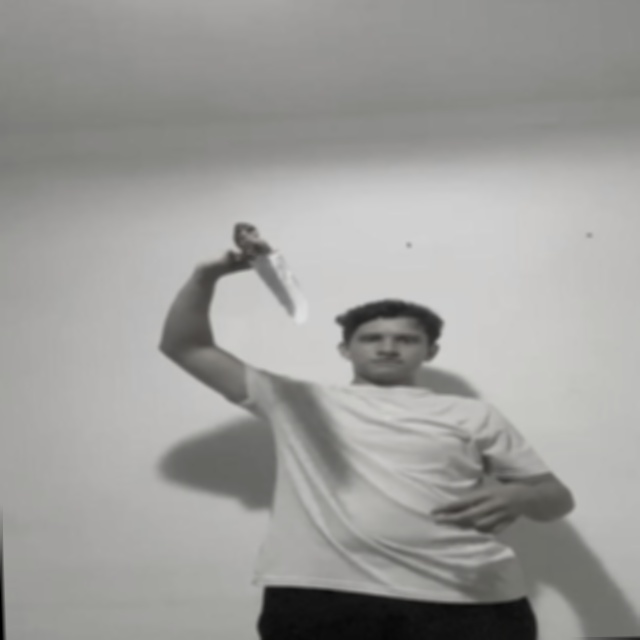Sharp-Object: (255, 250, 308, 322)
